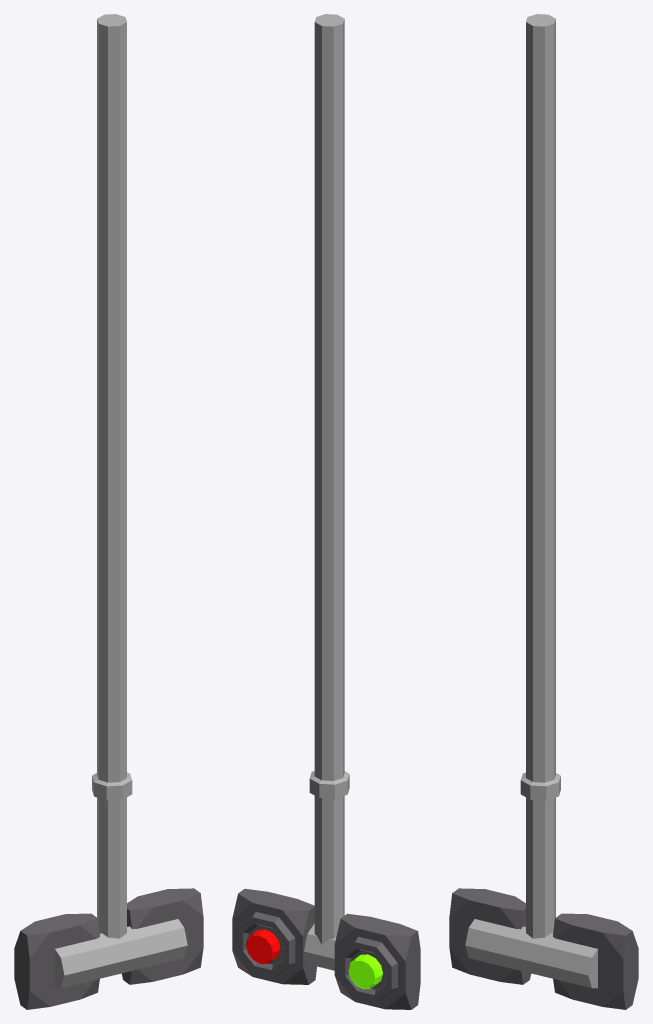
File: switches.glb
3 views of the same model, side by side, from view 1: azimuth 30°, elevation 25°; view 2: azimuth 150°, elevation 25°; view 3: azimuth 330°, elevation 25° (orthographic).
Visible parts, largest first — view 1: MESH_arcade_switch_pole, SWITCH_base_minigame, SWITCH_base_arcade; view 2: MESH_arcade_switch_pole, SWITCH_base_minigame, SWITCH_base_arcade, SWITCH_button_minigame, SWITCH_button_arcade; view 3: MESH_arcade_switch_pole, SWITCH_base_arcade, SWITCH_base_minigame.
Part boxes in pixels (x1,y1,x2,y2): MESH_arcade_switch_pole: (55, 14, 187, 988); SWITCH_base_minigame: (14, 913, 99, 1009); SWITCH_base_arcade: (121, 888, 203, 984); MESH_arcade_switch_pole: (304, 14, 349, 970); SWITCH_base_minigame: (334, 913, 420, 1009); SWITCH_base_arcade: (232, 888, 316, 984); SWITCH_button_minigame: (348, 954, 382, 989); SWITCH_button_arcade: (246, 929, 280, 964); MESH_arcade_switch_pole: (465, 14, 597, 988); SWITCH_base_arcade: (553, 913, 638, 1009); SWITCH_base_minigame: (449, 888, 531, 984).
Size of the model in its own units: 0.4227 by 2.25 by 0.138.
